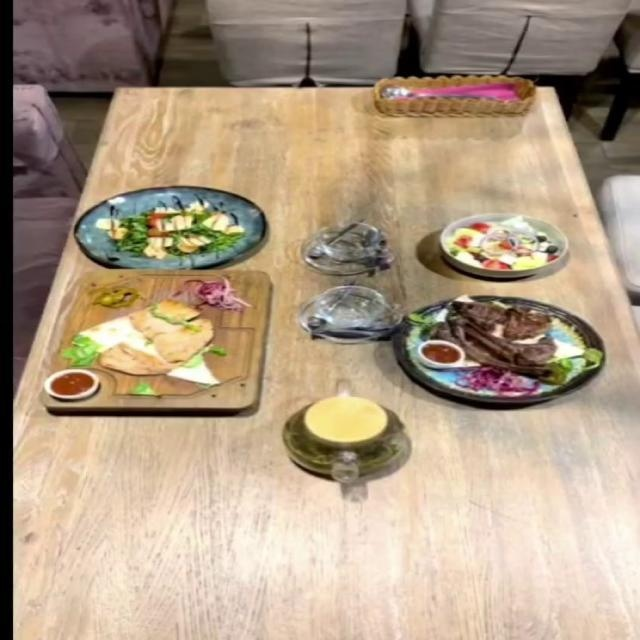meat: (47, 272, 273, 412), (390, 293, 606, 403)
salad: (72, 185, 264, 268), (437, 211, 570, 276)
tea: (272, 370, 425, 500)
